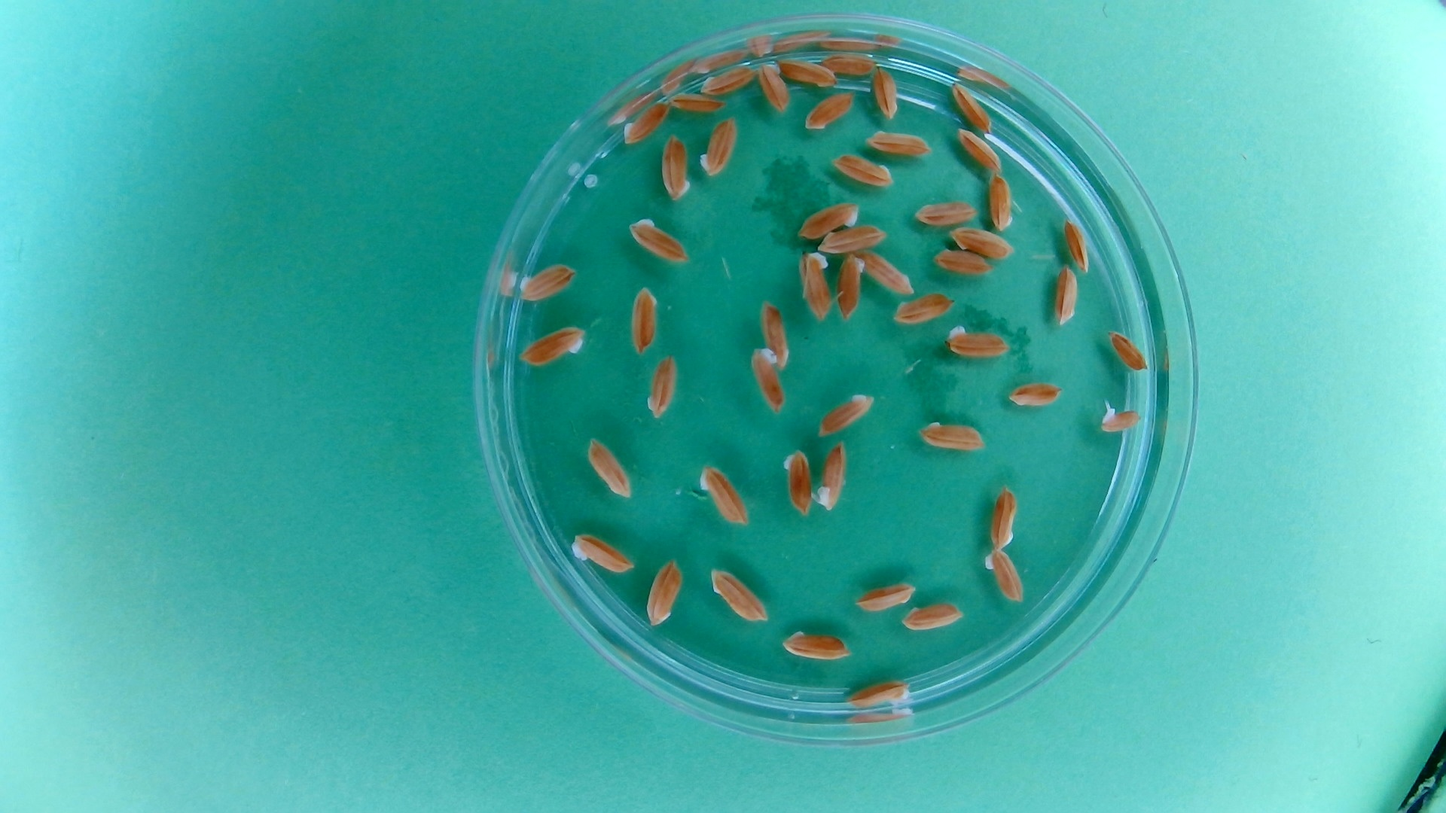no: (695, 459, 750, 527), (706, 565, 769, 624), (626, 214, 691, 265), (517, 324, 589, 370), (585, 434, 634, 501), (815, 388, 877, 437), (854, 248, 917, 296), (644, 556, 685, 629), (568, 531, 636, 575), (812, 437, 850, 513), (941, 321, 1012, 361), (757, 296, 794, 371), (514, 260, 578, 303), (697, 114, 740, 178), (749, 344, 787, 416), (798, 248, 834, 323), (947, 78, 995, 134), (797, 198, 862, 239), (917, 417, 989, 454), (829, 150, 897, 189), (954, 124, 1005, 175), (779, 627, 853, 662), (983, 546, 1027, 604), (779, 446, 814, 518), (626, 283, 660, 357), (657, 132, 692, 203), (948, 224, 1017, 260), (803, 88, 858, 133), (620, 97, 670, 146), (643, 351, 679, 419), (890, 290, 956, 327), (861, 127, 935, 159), (816, 222, 890, 254), (843, 678, 914, 710), (834, 251, 866, 322), (987, 482, 1020, 550), (853, 580, 918, 614), (776, 55, 839, 90), (1105, 327, 1152, 373), (898, 601, 965, 633), (931, 245, 997, 277), (911, 197, 981, 227), (868, 62, 902, 123), (697, 62, 758, 96), (755, 59, 792, 114), (1060, 215, 1093, 276), (987, 169, 1017, 233), (1005, 379, 1066, 409), (1052, 263, 1080, 328), (819, 49, 880, 78), (666, 90, 725, 114)
yes: (1097, 399, 1144, 434)
